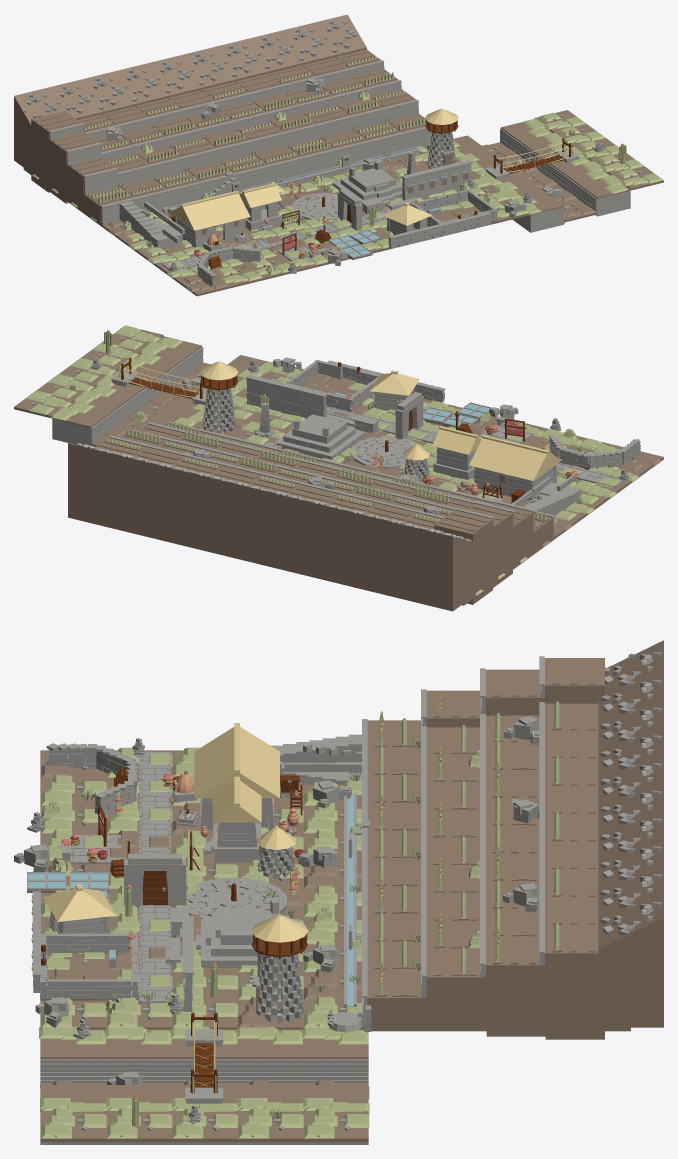
Rendered from andean-terraces-and-stone-village-highla-53eb3e64-starter-scene__38277.glb.
3 renders of one model, top to bottom at view 1: azimuth 30°, elevation 25°; view 2: azimuth 150°, elevation 25°; view 3: azimuth 270°, elevation 25°, orthographic. The views are drawn at different scales.
Visible parts, largest first — view 1: 403-stone-dwelling/stone-dwelling-thatch, 379-switchback-ramp/switchback-ramp-stone, 409-stepped-platform/stepped-platform-stone, 450-walled-animal-pen/walled-animal-pen-stone, 295-scree-slope/scree-slope-earth, 293-scree-slope/scree-slope-earth, 294-scree-slope/scree-slope-earth, 296-scree-slope/scree-slope-earth, 297-scree-slope/scree-slope-earth, 292-scree-slope/scree-slope-earth, 298-scree-slope/scree-slope-earth, 299-scree-slope/scree-slope-earth (+61 smaller); view 2: 403-stone-dwelling/stone-dwelling-thatch, 409-stepped-platform/stepped-platform-stone, 450-walled-animal-pen/walled-animal-pen-stone, 379-switchback-ramp/switchback-ramp-stone, 408-threshing-floor-plate/threshing-floor-plate-stone, 080-terrace-corner/terrace-corner-earth, 407-lookout-tower/lookout-tower-stone, 290-scree-slope/scree-slope-earth, 403-stone-dwelling/stone-dwelling-stone, 461-gorge-edge-module/gorge-edge-module-stone, 412-trapezoidal-niche-wall/trapezoidal-niche-wall-stone, 413-trapezoidal-niche-wall/trapezoidal-niche-wall-stone (+40 smaller); view 3: 403-stone-dwelling/stone-dwelling-thatch, 450-walled-animal-pen/walled-animal-pen-stone, 379-switchback-ramp/switchback-ramp-stone, 409-stepped-platform/stepped-platform-stone, 408-threshing-floor-plate/threshing-floor-plate-stone, 059-terrace-wall-high/terrace-wall-high-earth, 407-lookout-tower/lookout-tower-stone, 080-terrace-corner/terrace-corner-earth, 299-scree-slope/scree-slope-earth, 070-terrace-corner/terrace-corner-earth, 069-terrace-wall-mid/terrace-wall-mid-earth, 399-stone-gateway/stone-gateway-stone (+117 smaller).
Boxes of the visible parts, box(x1,y1,x2,y2) form: 403-stone-dwelling/stone-dwelling-thatch: box(170, 190, 250, 230); 379-switchback-ramp/switchback-ramp-stone: box(119, 201, 184, 248); 409-stepped-platform/stepped-platform-stone: box(332, 161, 402, 206); 450-walled-animal-pen/walled-animal-pen-stone: box(410, 189, 497, 226); 295-scree-slope/scree-slope-earth: box(181, 47, 233, 89); 293-scree-slope/scree-slope-earth: box(114, 63, 166, 106); 294-scree-slope/scree-slope-earth: box(147, 55, 199, 97); 296-scree-slope/scree-slope-earth: box(214, 39, 266, 81); 297-scree-slope/scree-slope-earth: box(248, 31, 299, 73); 292-scree-slope/scree-slope-earth: box(81, 71, 133, 114); 298-scree-slope/scree-slope-earth: box(281, 22, 333, 65); 299-scree-slope/scree-slope-earth: box(314, 14, 366, 57); 403-stone-dwelling/stone-dwelling-thatch: box(469, 435, 561, 480); 409-stepped-platform/stepped-platform-stone: box(274, 414, 364, 459); 450-walled-animal-pen/walled-animal-pen-stone: box(285, 360, 379, 411); 379-switchback-ramp/switchback-ramp-stone: box(511, 474, 580, 515); 408-threshing-floor-plate/threshing-floor-plate-stone: box(350, 436, 420, 468); 080-terrace-corner/terrace-corner-earth: box(434, 510, 493, 554); 407-lookout-tower/lookout-tower-stone: box(202, 388, 235, 433); 290-scree-slope/scree-slope-earth: box(414, 527, 472, 560); 403-stone-dwelling/stone-dwelling-stone: box(474, 464, 556, 500); 461-gorge-edge-module/gorge-edge-module-stone: box(52, 412, 114, 445); 412-trapezoidal-niche-wall/trapezoidal-niche-wall-stone: box(284, 384, 327, 418); 413-trapezoidal-niche-wall/trapezoidal-niche-wall-stone: box(246, 374, 288, 413); 403-stone-dwelling/stone-dwelling-thatch: box(194, 723, 279, 798); 450-walled-animal-pen/walled-animal-pen-stone: box(40, 933, 138, 999); 379-switchback-ramp/switchback-ramp-stone: box(271, 734, 361, 784); 409-stepped-platform/stepped-platform-stone: box(196, 899, 299, 967); 408-threshing-floor-plate/threshing-floor-plate-stone: box(182, 877, 286, 918); 059-terrace-wall-high/terrace-wall-high-earth: box(367, 970, 427, 1027); 407-lookout-tower/lookout-tower-stone: box(255, 954, 303, 1022); 080-terrace-corner/terrace-corner-earth: box(545, 658, 604, 703); 299-scree-slope/scree-slope-earth: box(598, 890, 663, 953); 070-terrace-corner/terrace-corner-earth: box(486, 669, 545, 715); 069-terrace-wall-mid/terrace-wall-mid-earth: box(426, 949, 486, 997); 399-stone-gateway/stone-gateway-stone: box(124, 853, 186, 907).
Size of the model in its own units: 56.19 by 9.7 by 39.59.
8 materials, 2 textured.
